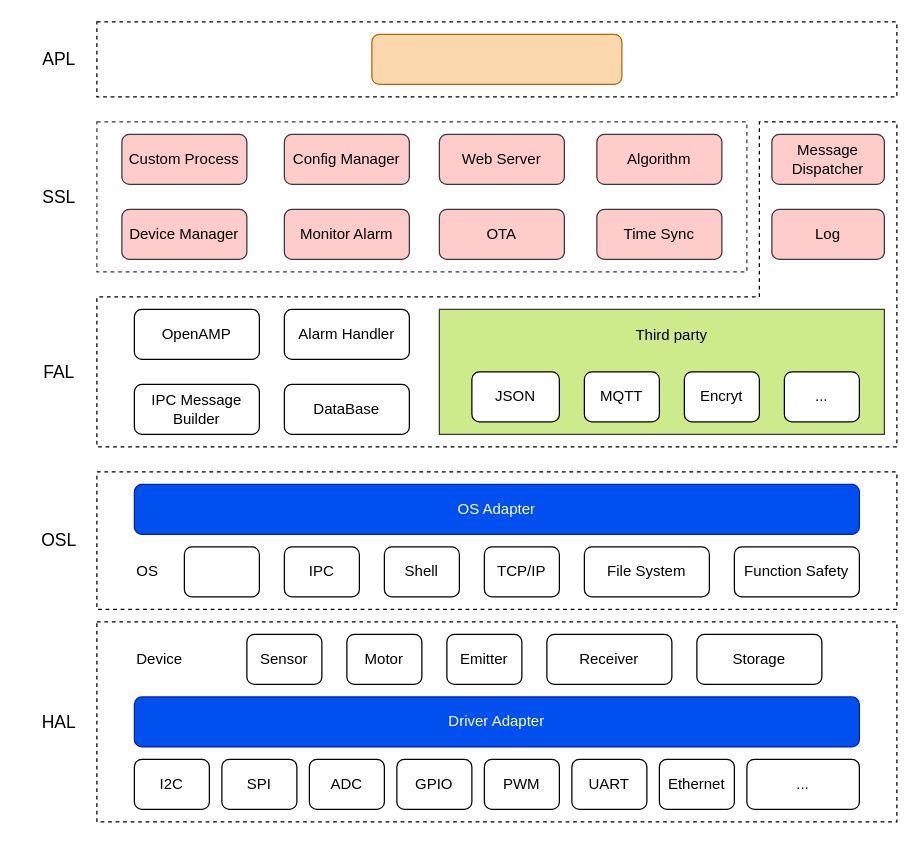
The diagram is 919 pixels wide and 844 high, and some of its shapes have lost their labels. The shapes that lost their labels are listed below. From the top down, each one's centre as x and y in pixels, then its label:
At (x=496, y=58): "Workflow Controller".
At (x=221, y=571): "Kernel".
